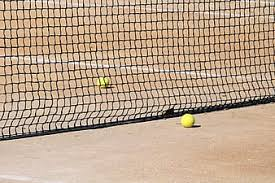tennis_ball: (180, 113, 195, 129), (96, 75, 109, 89)
